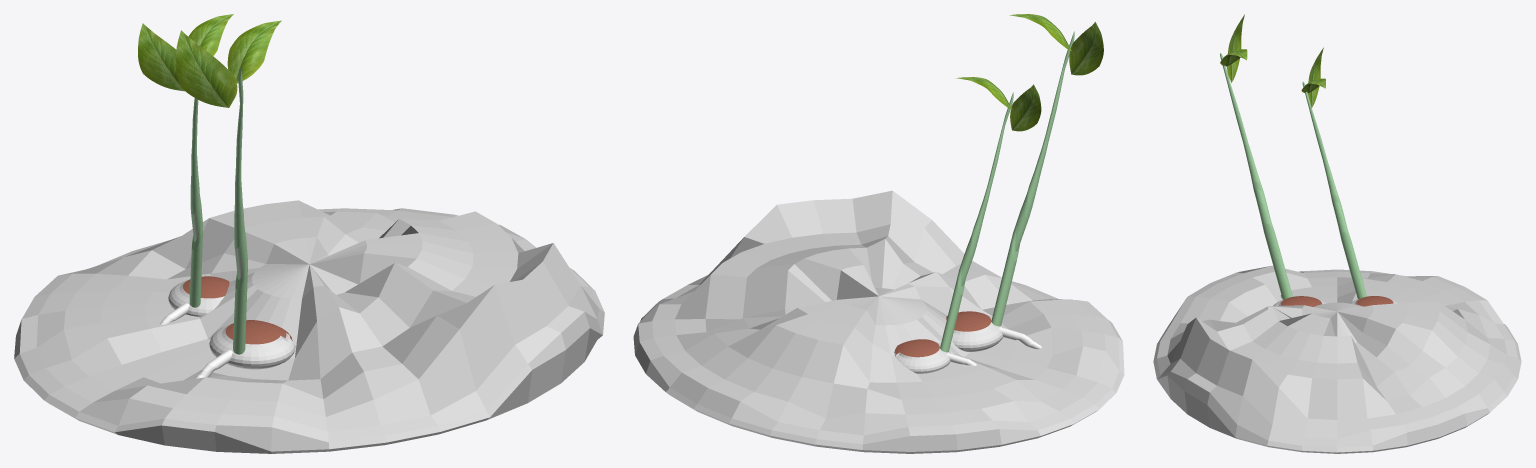
File: sinvaso.glb
3 views of the same model, side by side, from view 1: azimuth 30°, elevation 25°; view 2: azimuth 150°, elevation 25°; view 3: azimuth 270°, elevation 25° (orthographic). The views are drawn at different scales.
Parts seen in each view (by area): view 1: Esfera, new_plant_1:planarTrimmedSurface1.005, Esfera.044, Cilindro.002, Cilindro.006, new_plant_1:planarTrimmedSurface1.004, new_plant_1:planarTrimmedSurface1, Esfera.001, new_plant_1:planarTrimmedSurface1.003; view 2: Esfera, Cilindro.002, Cilindro.006, Esfera.044, Esfera.001, new_plant_1:planarTrimmedSurface1.005, new_plant_1:planarTrimmedSurface1.004, new_plant_1:planarTrimmedSurface1; view 3: Esfera, Cilindro.002, Cilindro.006, new_plant_1:planarTrimmedSurface1.005, Esfera.044, new_plant_1:planarTrimmedSurface1.004.
Boxes of the visible parts, x1,y1,x2,y2 form: Esfera: [14, 200, 604, 453]; new_plant_1:planarTrimmedSurface1.005: [175, 30, 237, 107]; Esfera.044: [209, 320, 295, 369]; Cilindro.002: [233, 67, 247, 354]; Cilindro.006: [189, 98, 203, 307]; new_plant_1:planarTrimmedSurface1.004: [138, 23, 184, 91]; new_plant_1:planarTrimmedSurface1: [227, 20, 281, 84]; Esfera.001: [168, 276, 229, 316]; new_plant_1:planarTrimmedSurface1.003: [188, 14, 233, 56]; Esfera: [633, 190, 1124, 453]; Cilindro.002: [991, 31, 1074, 326]; Cilindro.006: [940, 92, 1013, 352]; Esfera.044: [946, 311, 1003, 351]; Esfera.001: [894, 339, 950, 373]; new_plant_1:planarTrimmedSurface1.005: [1069, 22, 1103, 75]; new_plant_1:planarTrimmedSurface1.004: [1010, 84, 1041, 131]; new_plant_1:planarTrimmedSurface1: [1009, 14, 1071, 50]; Esfera: [1153, 265, 1521, 453]; Cilindro.002: [1220, 53, 1292, 299]; Cilindro.006: [1302, 81, 1366, 298]; new_plant_1:planarTrimmedSurface1.005: [1227, 14, 1244, 82]; Esfera.044: [1273, 296, 1326, 306]; new_plant_1:planarTrimmedSurface1.004: [1308, 47, 1323, 107].
Size of the model in its own units: 2.21 by 1.69 by 1.89.
23 materials, 7 textured.
